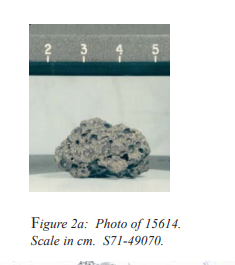Basalt: (54, 100, 146, 172)
